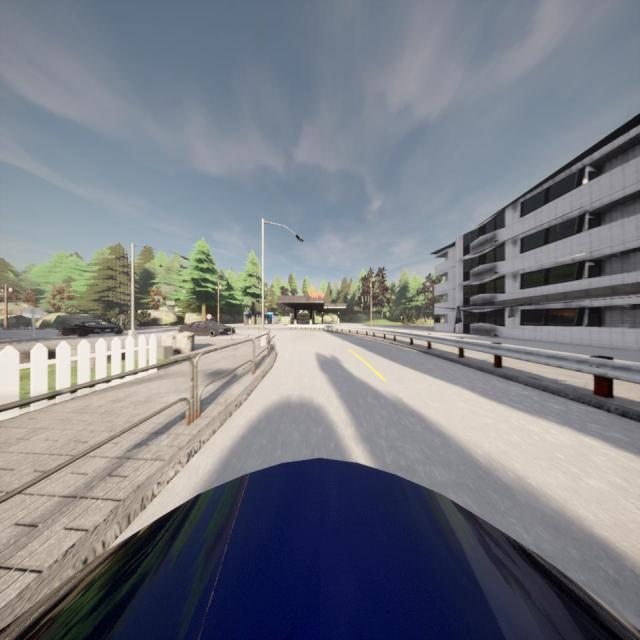Traffic_Signs: (206, 314, 212, 320)
Vehicle: (0, 457, 640, 640), (52, 315, 122, 335), (177, 320, 236, 337)
